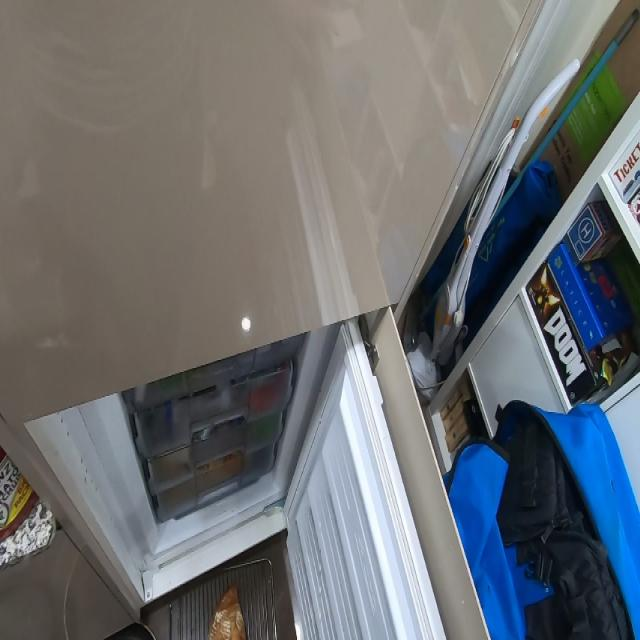fridge: (4, 356, 456, 640)
